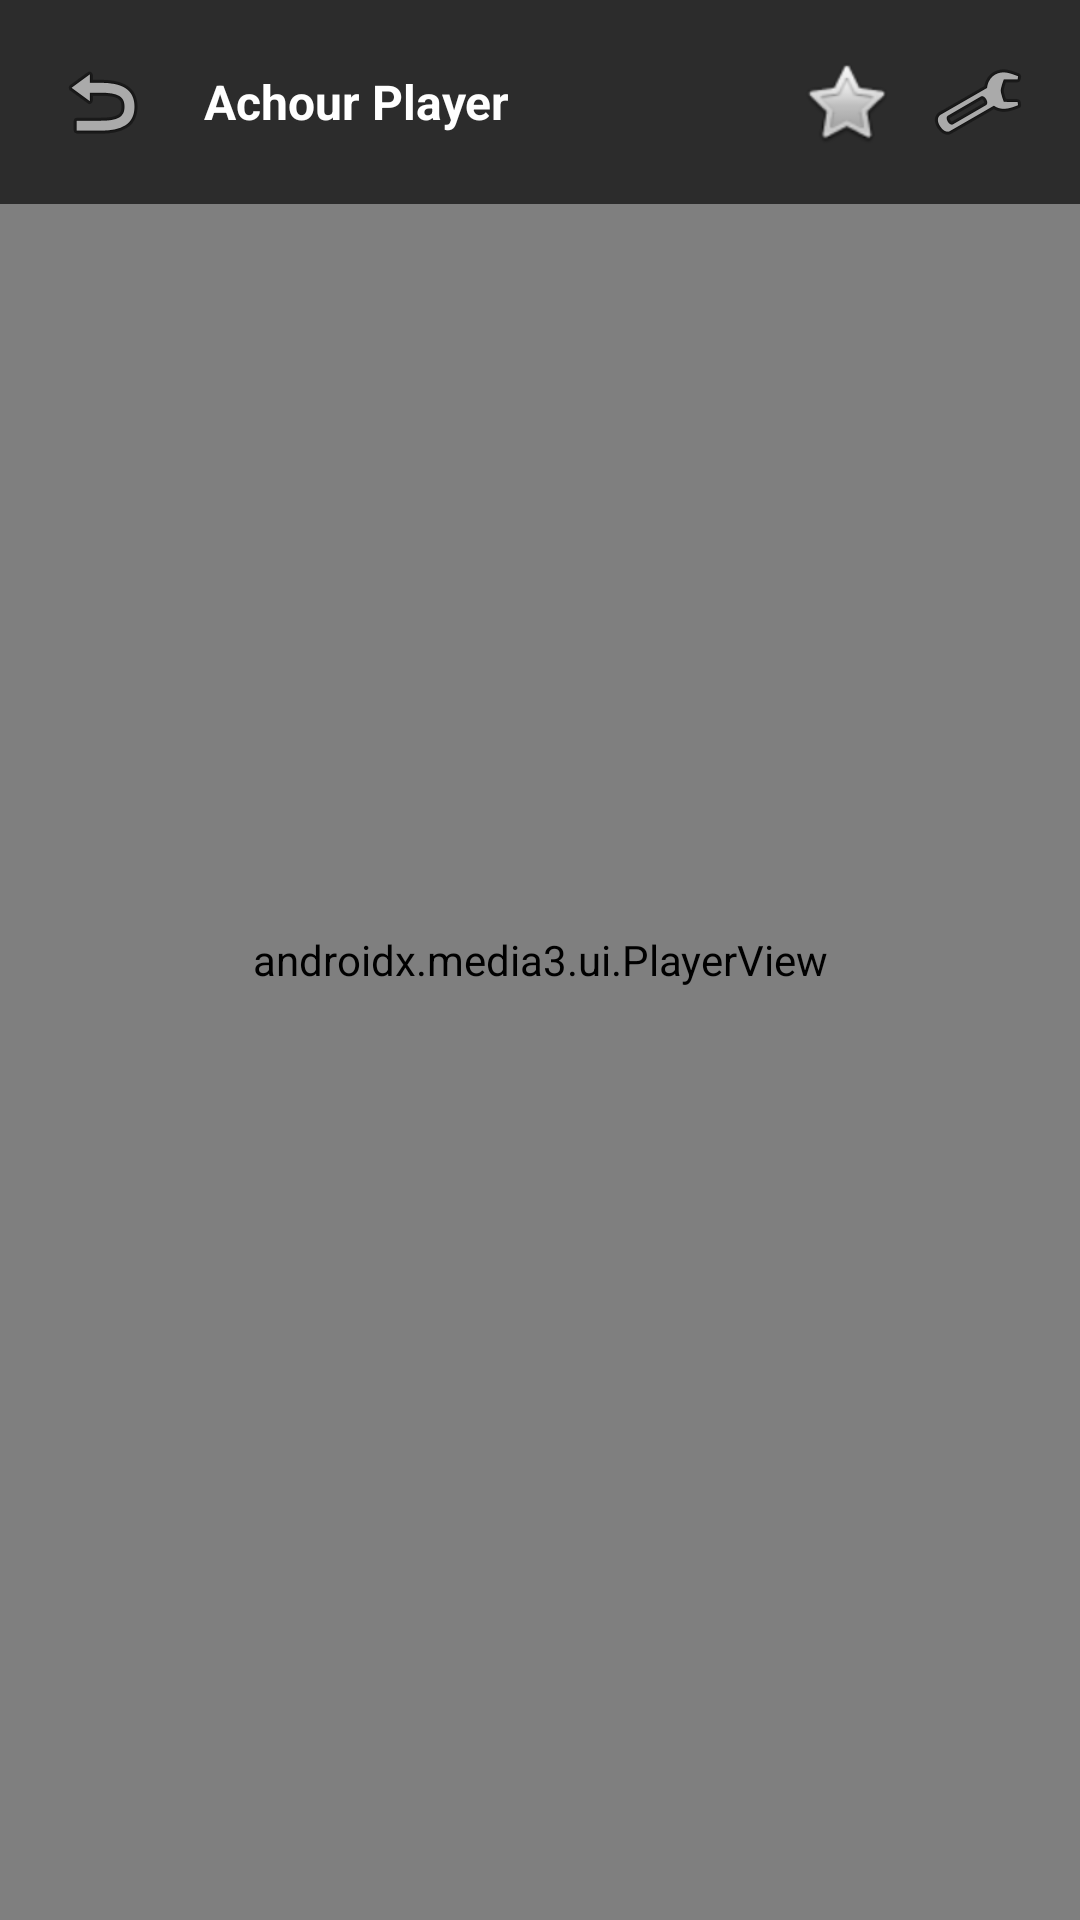

Where to tap for icons on this 1080 × 1920 app screen, as (x,y):
Back: (103,103)
Favorite: (847,101)
Settings: (978,102)
